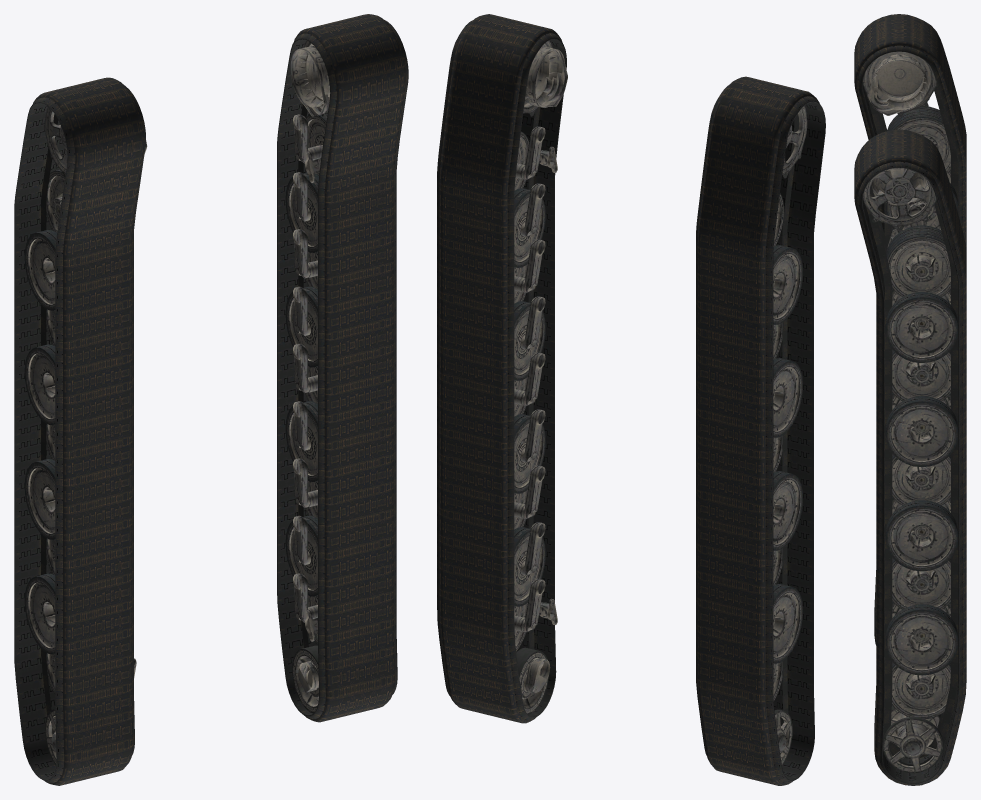
File: Chassis.glb
3 views of the same model, side by side, from view 1: azimuth 30°, elevation 25°; view 2: azimuth 150°, elevation 25°; view 3: azimuth 270°, elevation 25° (orthographic). The views are drawn at different scales.
Visible parts, largest first — view 1: set_1_group_0, set_3_group_0, set_0_group_0, set_2_group_0, set_5_group_0, set_4_group_0; view 2: set_1_group_0, set_3_group_0, set_0_group_0, set_2_group_0, set_5_group_0, set_4_group_0; view 3: set_5_group_0, set_3_group_0, set_2_group_0, set_0_group_0, set_4_group_0, set_1_group_0.
Part boxes in pixels (x1,y1,x2,y2): set_1_group_0: (14,192,135,660); set_3_group_0: (277,134,396,633); set_0_group_0: (14,77,145,785); set_2_group_0: (277,14,408,722); set_5_group_0: (285,40,330,713); set_4_group_0: (24,107,147,764); set_1_group_0: (696,205,815,699); set_3_group_0: (437,164,554,642); set_0_group_0: (696,76,825,785); set_2_group_0: (437,14,566,723); set_5_group_0: (514,40,567,714); set_4_group_0: (773,106,807,765); set_5_group_0: (863,168,958,773); set_3_group_0: (876,247,966,699); set_2_group_0: (854,129,965,785); set_0_group_0: (854,14,964,645); set_4_group_0: (863,51,958,232); set_1_group_0: (878,126,966,251).
Bounding box in the file's own units: 3.93 × 7.65 × 1.24.
6 materials, 6 textured.
